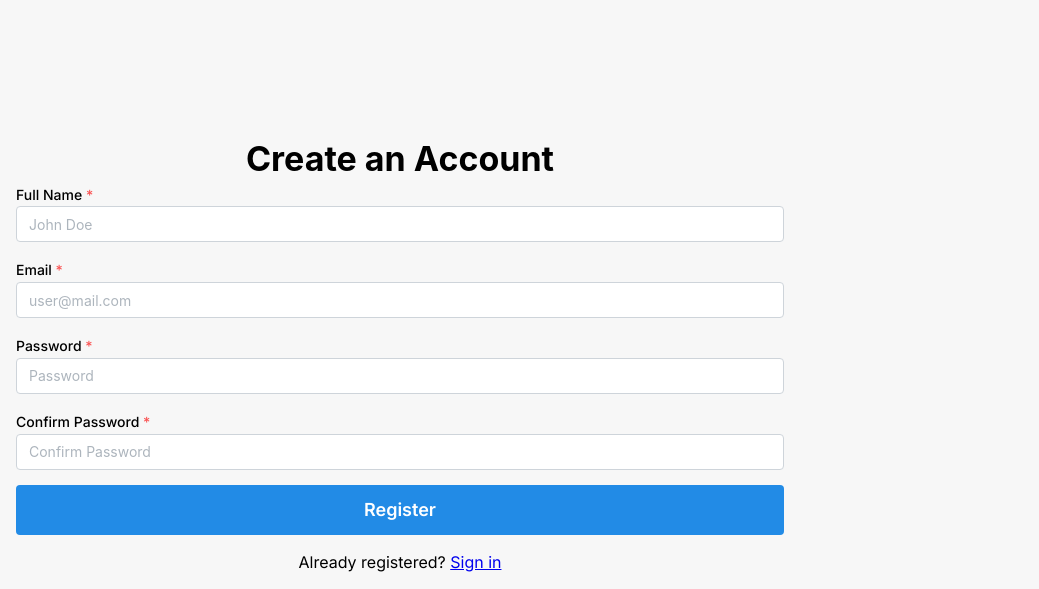
Registration Page › should show a banner with error message when passwords do not match
The image size is (1039, 589).
Type "Test User" into the field named "name".
click(400, 224); type("Test User")  # box [16,206,784,242]
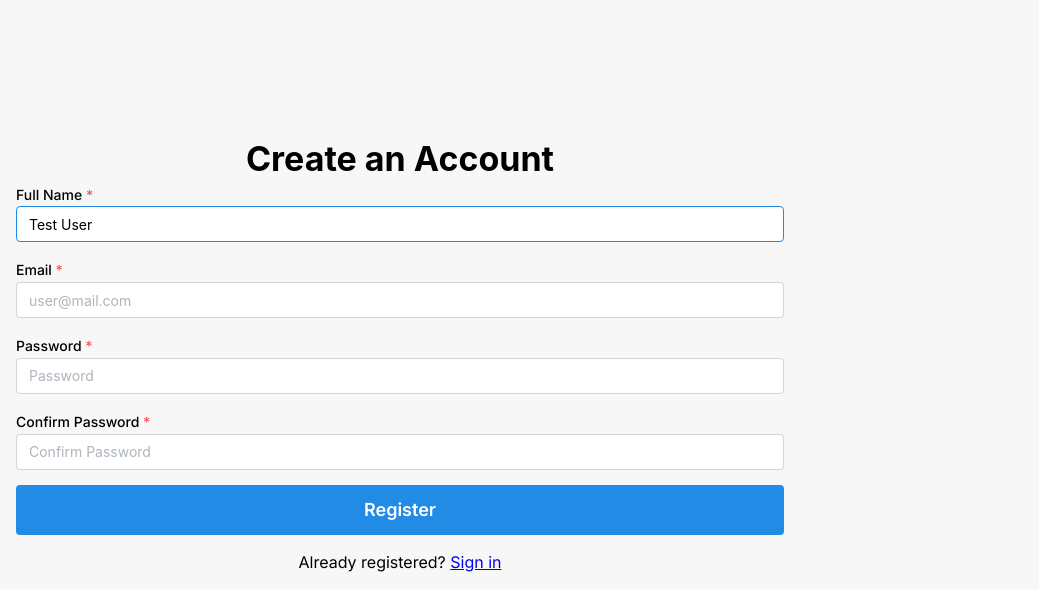
Type "test@example.com" into the field named "email".
click(400, 300); type("test@example.com")  # box [16,282,784,318]
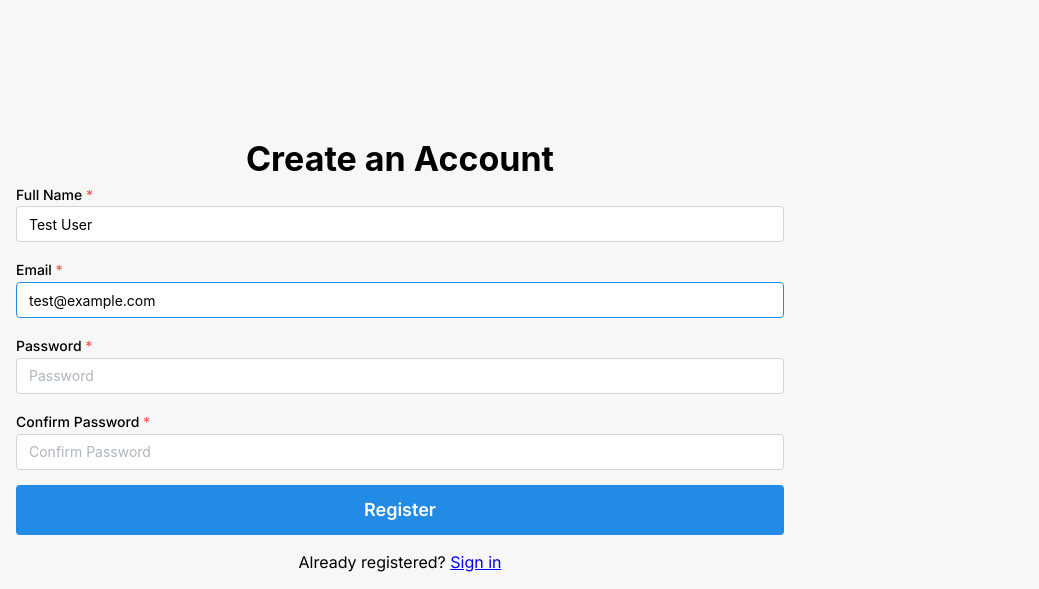
Type "password12" into the password field named "password".
click(400, 376); type("password12")  # box [16,358,784,394]
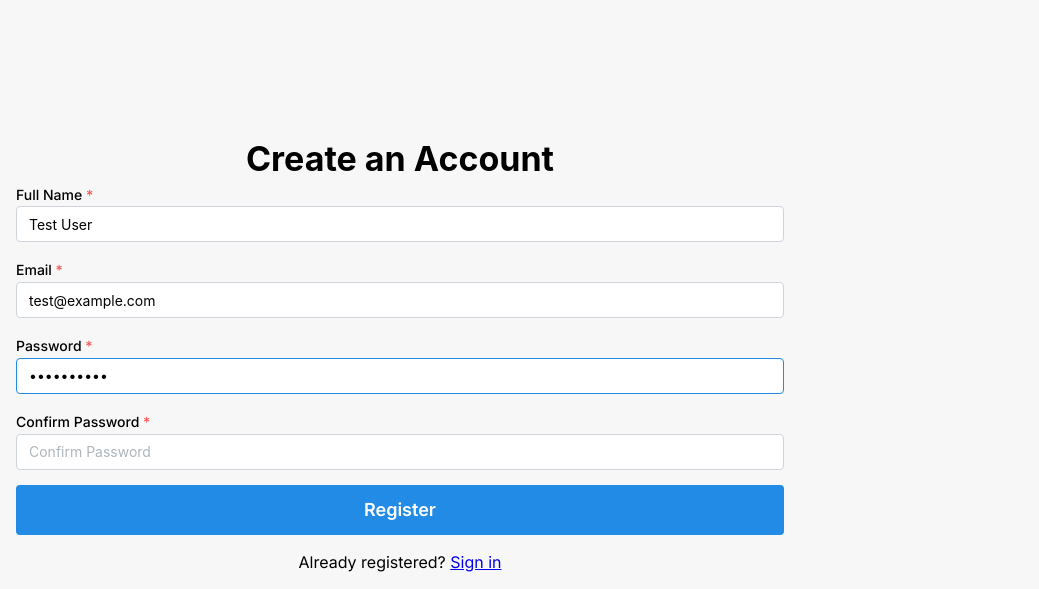
Type "password123" into the password field named "confirmPassword".
click(400, 452); type("password123")  # box [16,434,784,470]
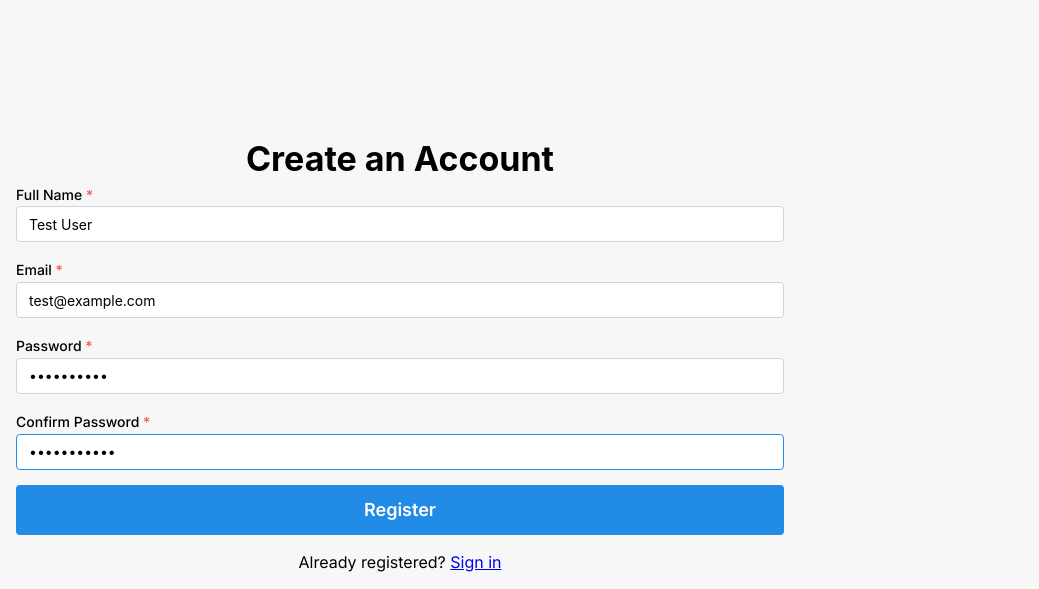
Click the submit button.
click(400, 510)  # box [16,485,784,535]
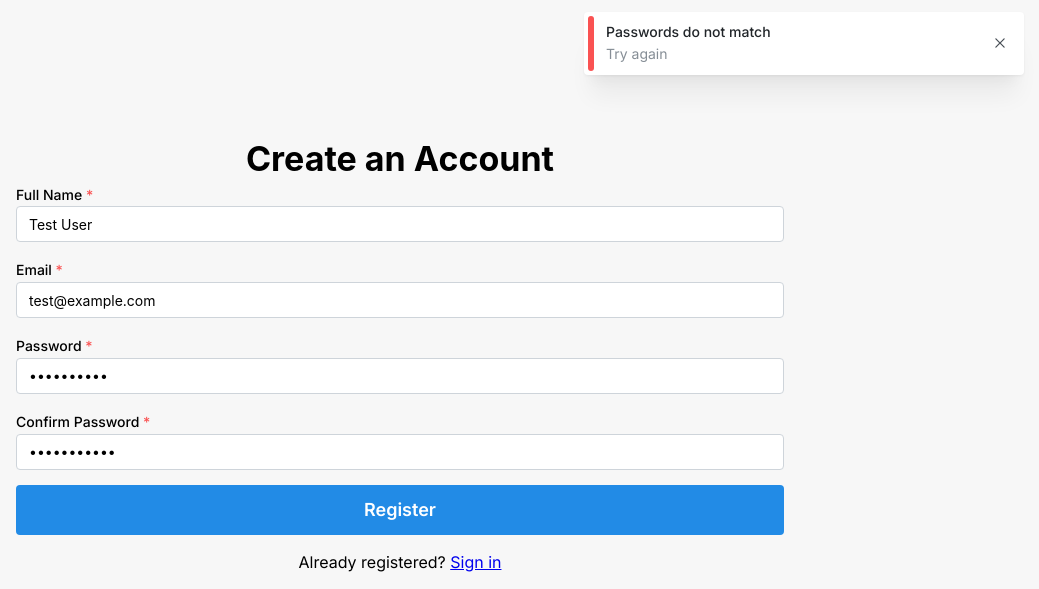
Expected: the text "Passwords do not match" is shown, [606,23,771,40]
Expected: the text "Try again" is shown, [606,45,668,62]
